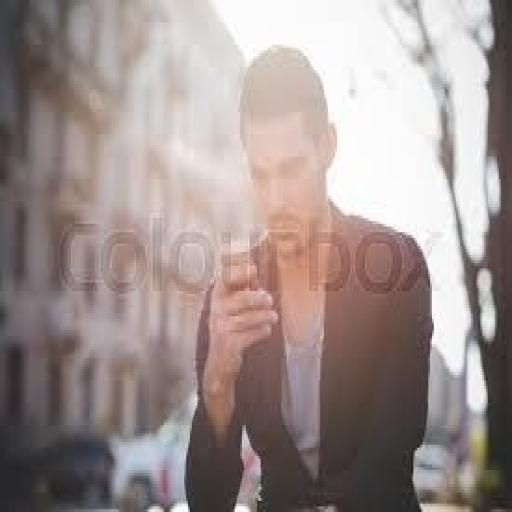texting: (182, 42, 434, 509)
